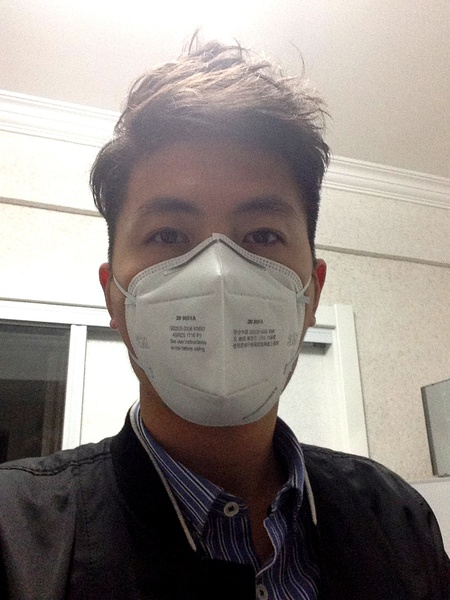face_mask: (117, 140, 306, 427)
